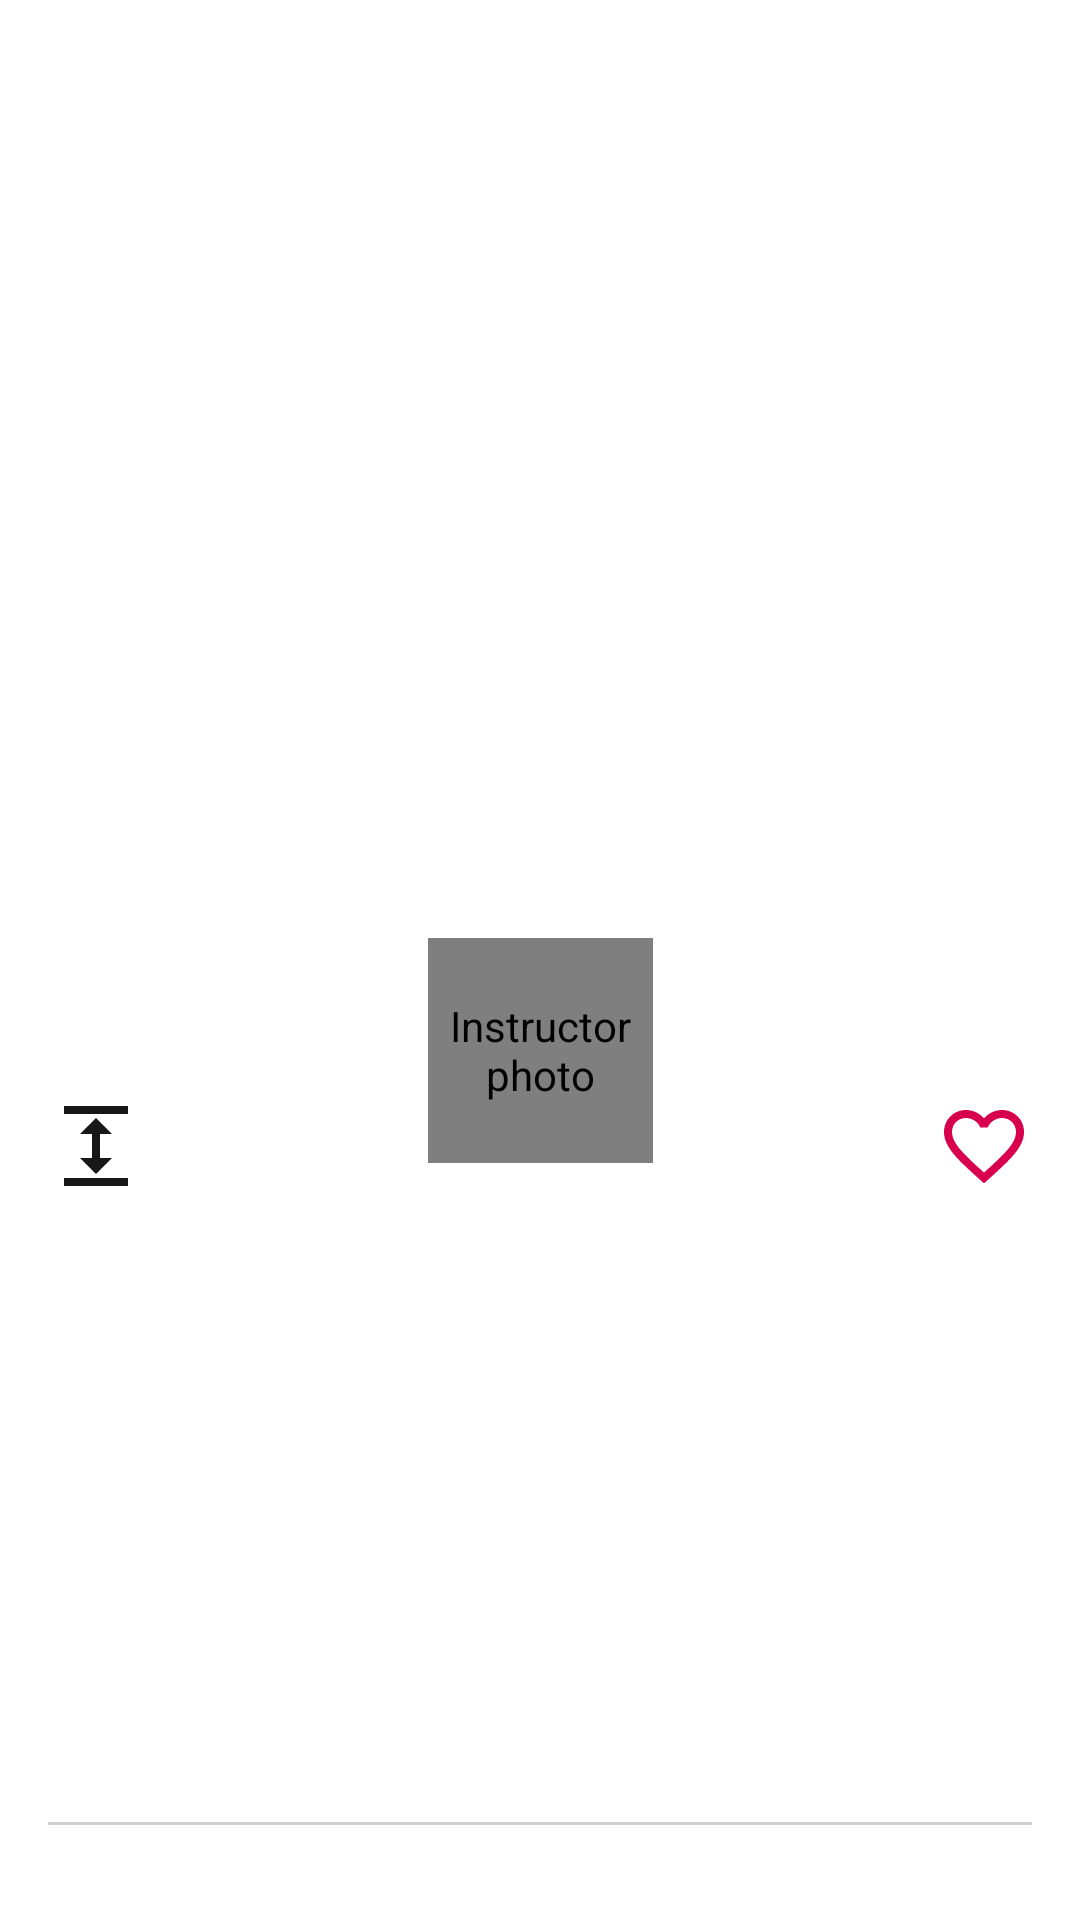

Screen size 1080 × 1920. Icon name, then its box in pixels as (left=x1, top=y1, right=x2, bottom=y2):
Add to favorites: (left=944, top=1110, right=1024, bottom=1183)
Expand course photo: (left=64, top=1106, right=128, bottom=1186)
